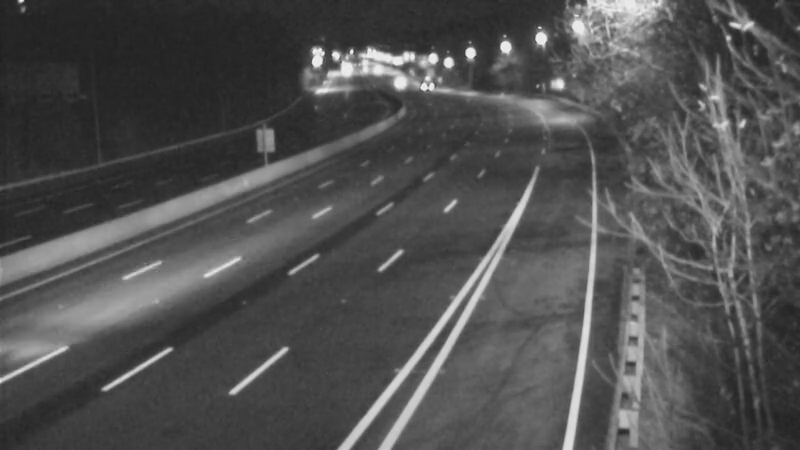vehicle: (371, 55, 421, 105), (398, 61, 448, 111)
